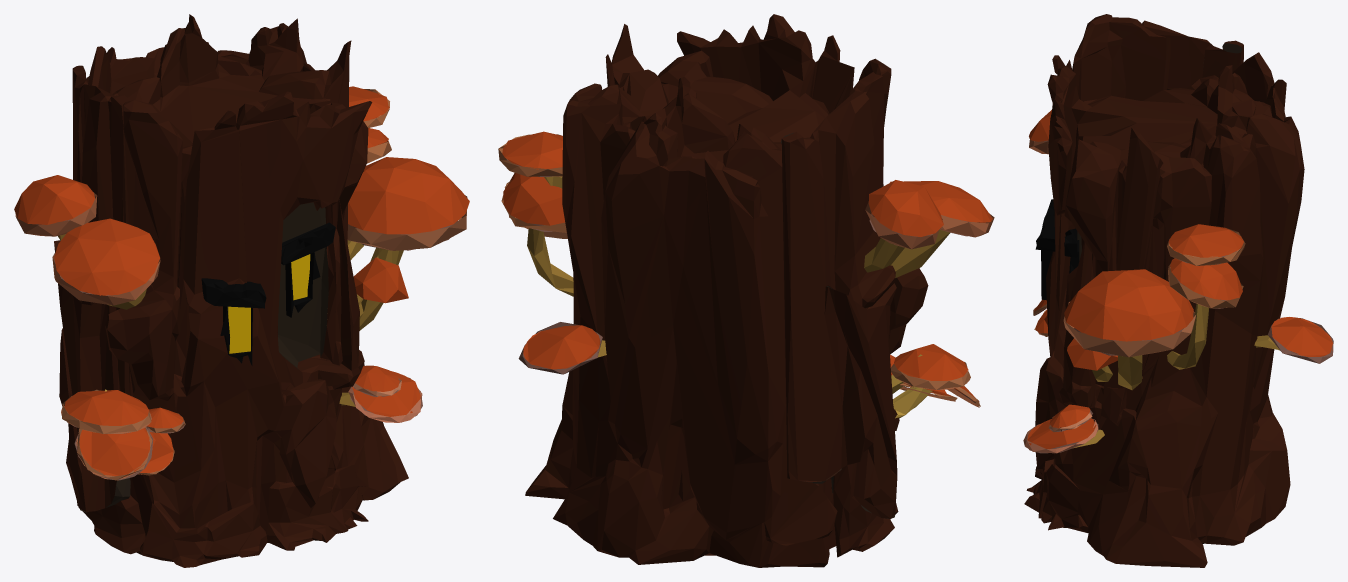
The model's file is tronco.fbx.
3 renders of one model, left to right at view 1: azimuth 30°, elevation 25°; view 2: azimuth 150°, elevation 25°; view 3: azimuth 270°, elevation 25°, orthographic. The views are drawn at different scales.
Parts seen in each view (by area): view 1: Body; view 2: Body; view 3: Body.
Part boxes in pixels (box(x1,y1,x2,y2)): Body: box(14, 14, 469, 567); Body: box(498, 14, 994, 567); Body: box(1023, 14, 1333, 567).
Bounding box in the file's own units: 119 × 78.93 × 120.
